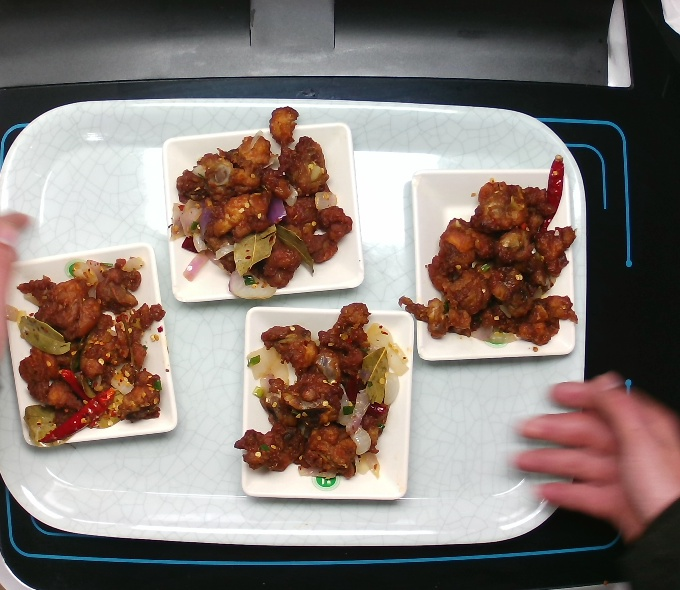wcq-LaZiJiKuai: (165, 104, 355, 303), (394, 153, 582, 349), (231, 298, 409, 483), (13, 257, 169, 449)
